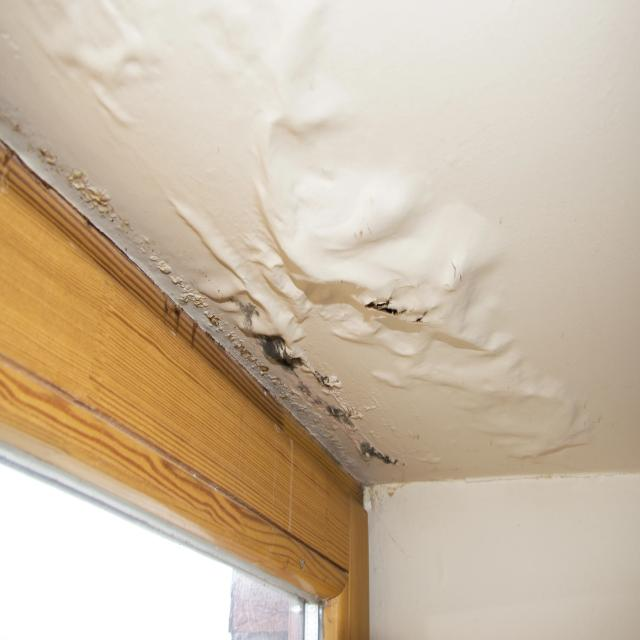damaged_roof: (246, 122, 582, 456), (41, 8, 310, 101)
